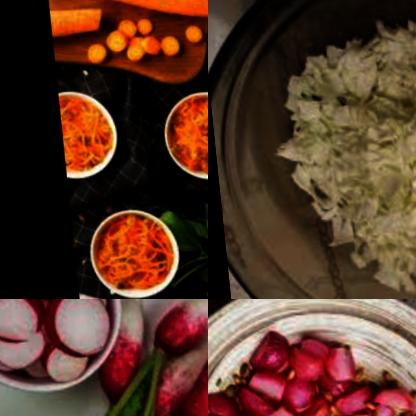cabbage: (254, 3, 416, 299)
carrot: (67, 0, 208, 37), (90, 221, 161, 289), (160, 93, 208, 168), (55, 103, 100, 160), (104, 19, 161, 63), (46, 1, 105, 36), (152, 30, 178, 56), (81, 40, 106, 67), (179, 22, 200, 47)
rediska: (208, 348, 416, 416), (0, 299, 114, 388), (85, 299, 154, 411), (132, 326, 208, 416), (151, 299, 208, 373), (159, 338, 208, 416)
